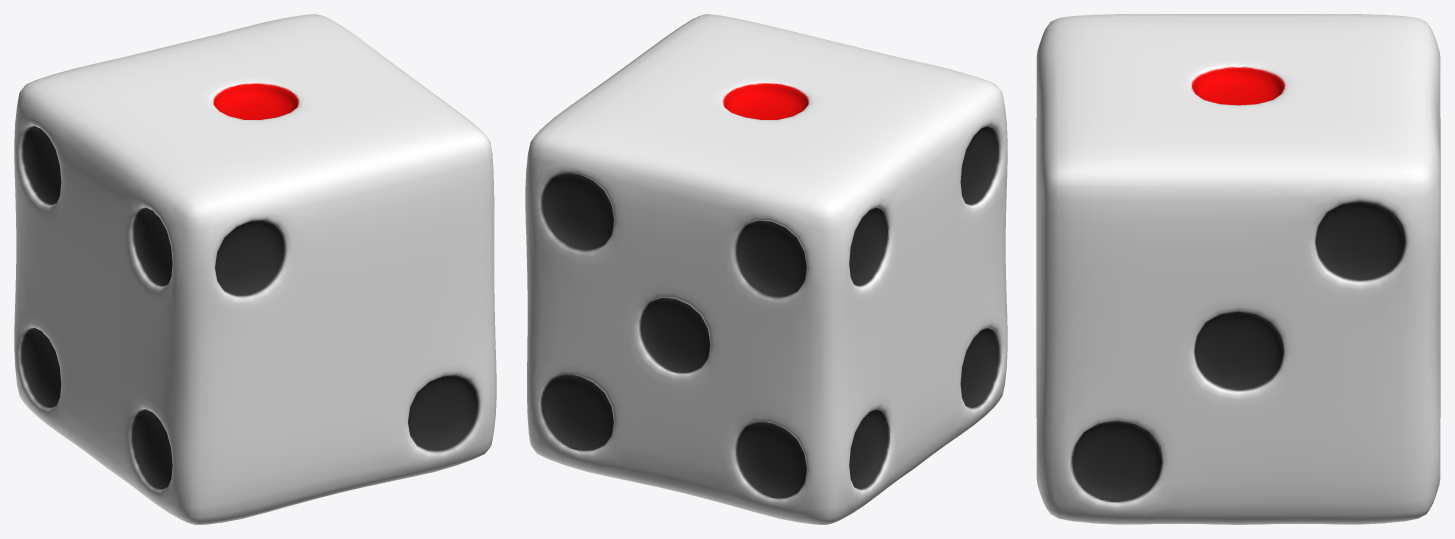
File: Dice.fbx
The picture shows the model from 3 angles, left to right: view 1: azimuth 30°, elevation 25°; view 2: azimuth 150°, elevation 25°; view 3: azimuth 270°, elevation 25°; orthographic projection. The views are drawn at different scales.
Visible parts, largest first — view 1: Cube; view 2: Cube; view 3: Cube.
Boxes of the visible parts, x1,y1,x2,y2 form: Cube: (14, 14, 496, 524); Cube: (525, 14, 1007, 524); Cube: (1036, 14, 1440, 524).
Size of the model in its own units: 200 by 200 by 200.
Materials: 1 (1 with a texture image).
